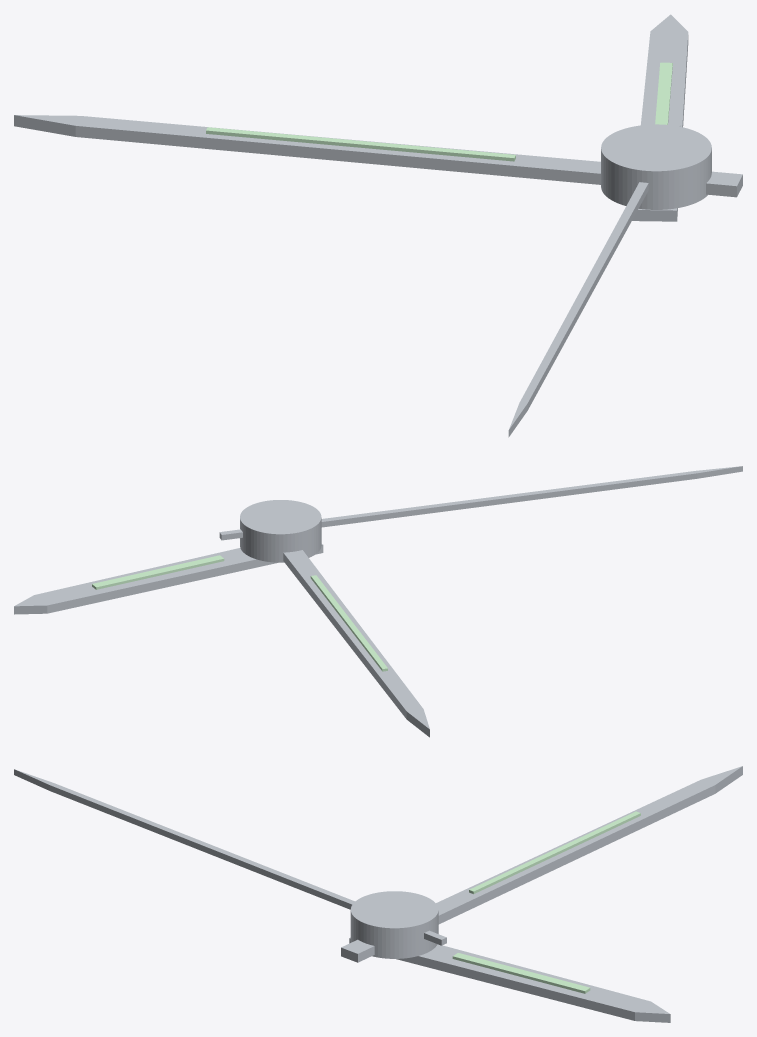
Rendered from hands-nh05-luminous-588.glb.
3 renders of one model, top to bottom at view 1: azimuth 30°, elevation 25°; view 2: azimuth 150°, elevation 25°; view 3: azimuth 270°, elevation 25°, orthographic. The views are drawn at different scales.
Parts seen in each view (by area): view 1: DD_HAND_MINUTE, DD_HAND_HUB, DD_HAND_HOUR, DD_HAND_SECONDS, DD_HAND_MINUTE_LUME, DD_HAND_HOUR_LUME; view 2: DD_HAND_HOUR, DD_HAND_HUB, DD_HAND_MINUTE, DD_HAND_SECONDS, DD_HAND_HOUR_LUME, DD_HAND_MINUTE_LUME; view 3: DD_HAND_MINUTE, DD_HAND_HOUR, DD_HAND_HUB, DD_HAND_SECONDS, DD_HAND_MINUTE_LUME, DD_HAND_HOUR_LUME.
Boxes of the visible parts, left/top/right/bottom form: DD_HAND_MINUTE: left=14, top=115, right=742, bottom=197; DD_HAND_HUB: left=601, top=124, right=711, bottom=209; DD_HAND_HOUR: left=632, top=14, right=688, bottom=221; DD_HAND_SECONDS: left=508, top=124, right=680, bottom=437; DD_HAND_MINUTE_LUME: left=206, top=127, right=515, bottom=161; DD_HAND_HOUR_LUME: left=655, top=62, right=672, bottom=124; DD_HAND_HOUR: left=14, top=544, right=323, bottom=614; DD_HAND_HUB: left=240, top=500, right=321, bottom=562; DD_HAND_MINUTE: left=283, top=550, right=429, bottom=737; DD_HAND_SECONDS: left=219, top=466, right=742, bottom=540; DD_HAND_HOUR_LUME: left=92, top=555, right=224, bottom=589; DD_HAND_MINUTE_LUME: left=310, top=575, right=387, bottom=671; DD_HAND_MINUTE: left=341, top=766, right=742, bottom=962; DD_HAND_HOUR: left=349, top=937, right=670, bottom=1022; DD_HAND_HUB: left=350, top=891, right=438, bottom=958; DD_HAND_SECONDS: left=14, top=769, right=446, bottom=945; DD_HAND_MINUTE_LUME: left=469, top=811, right=640, bottom=894; DD_HAND_HOUR_LUME: left=452, top=953, right=590, bottom=993.
Bounding box in the file's own units: 8.59 × 0.685 × 11.2.
